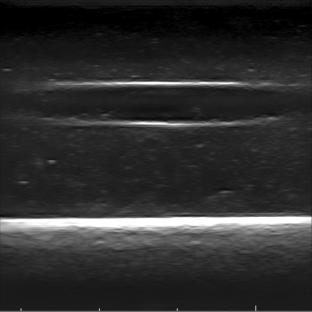vessel: (47, 78, 266, 131)
